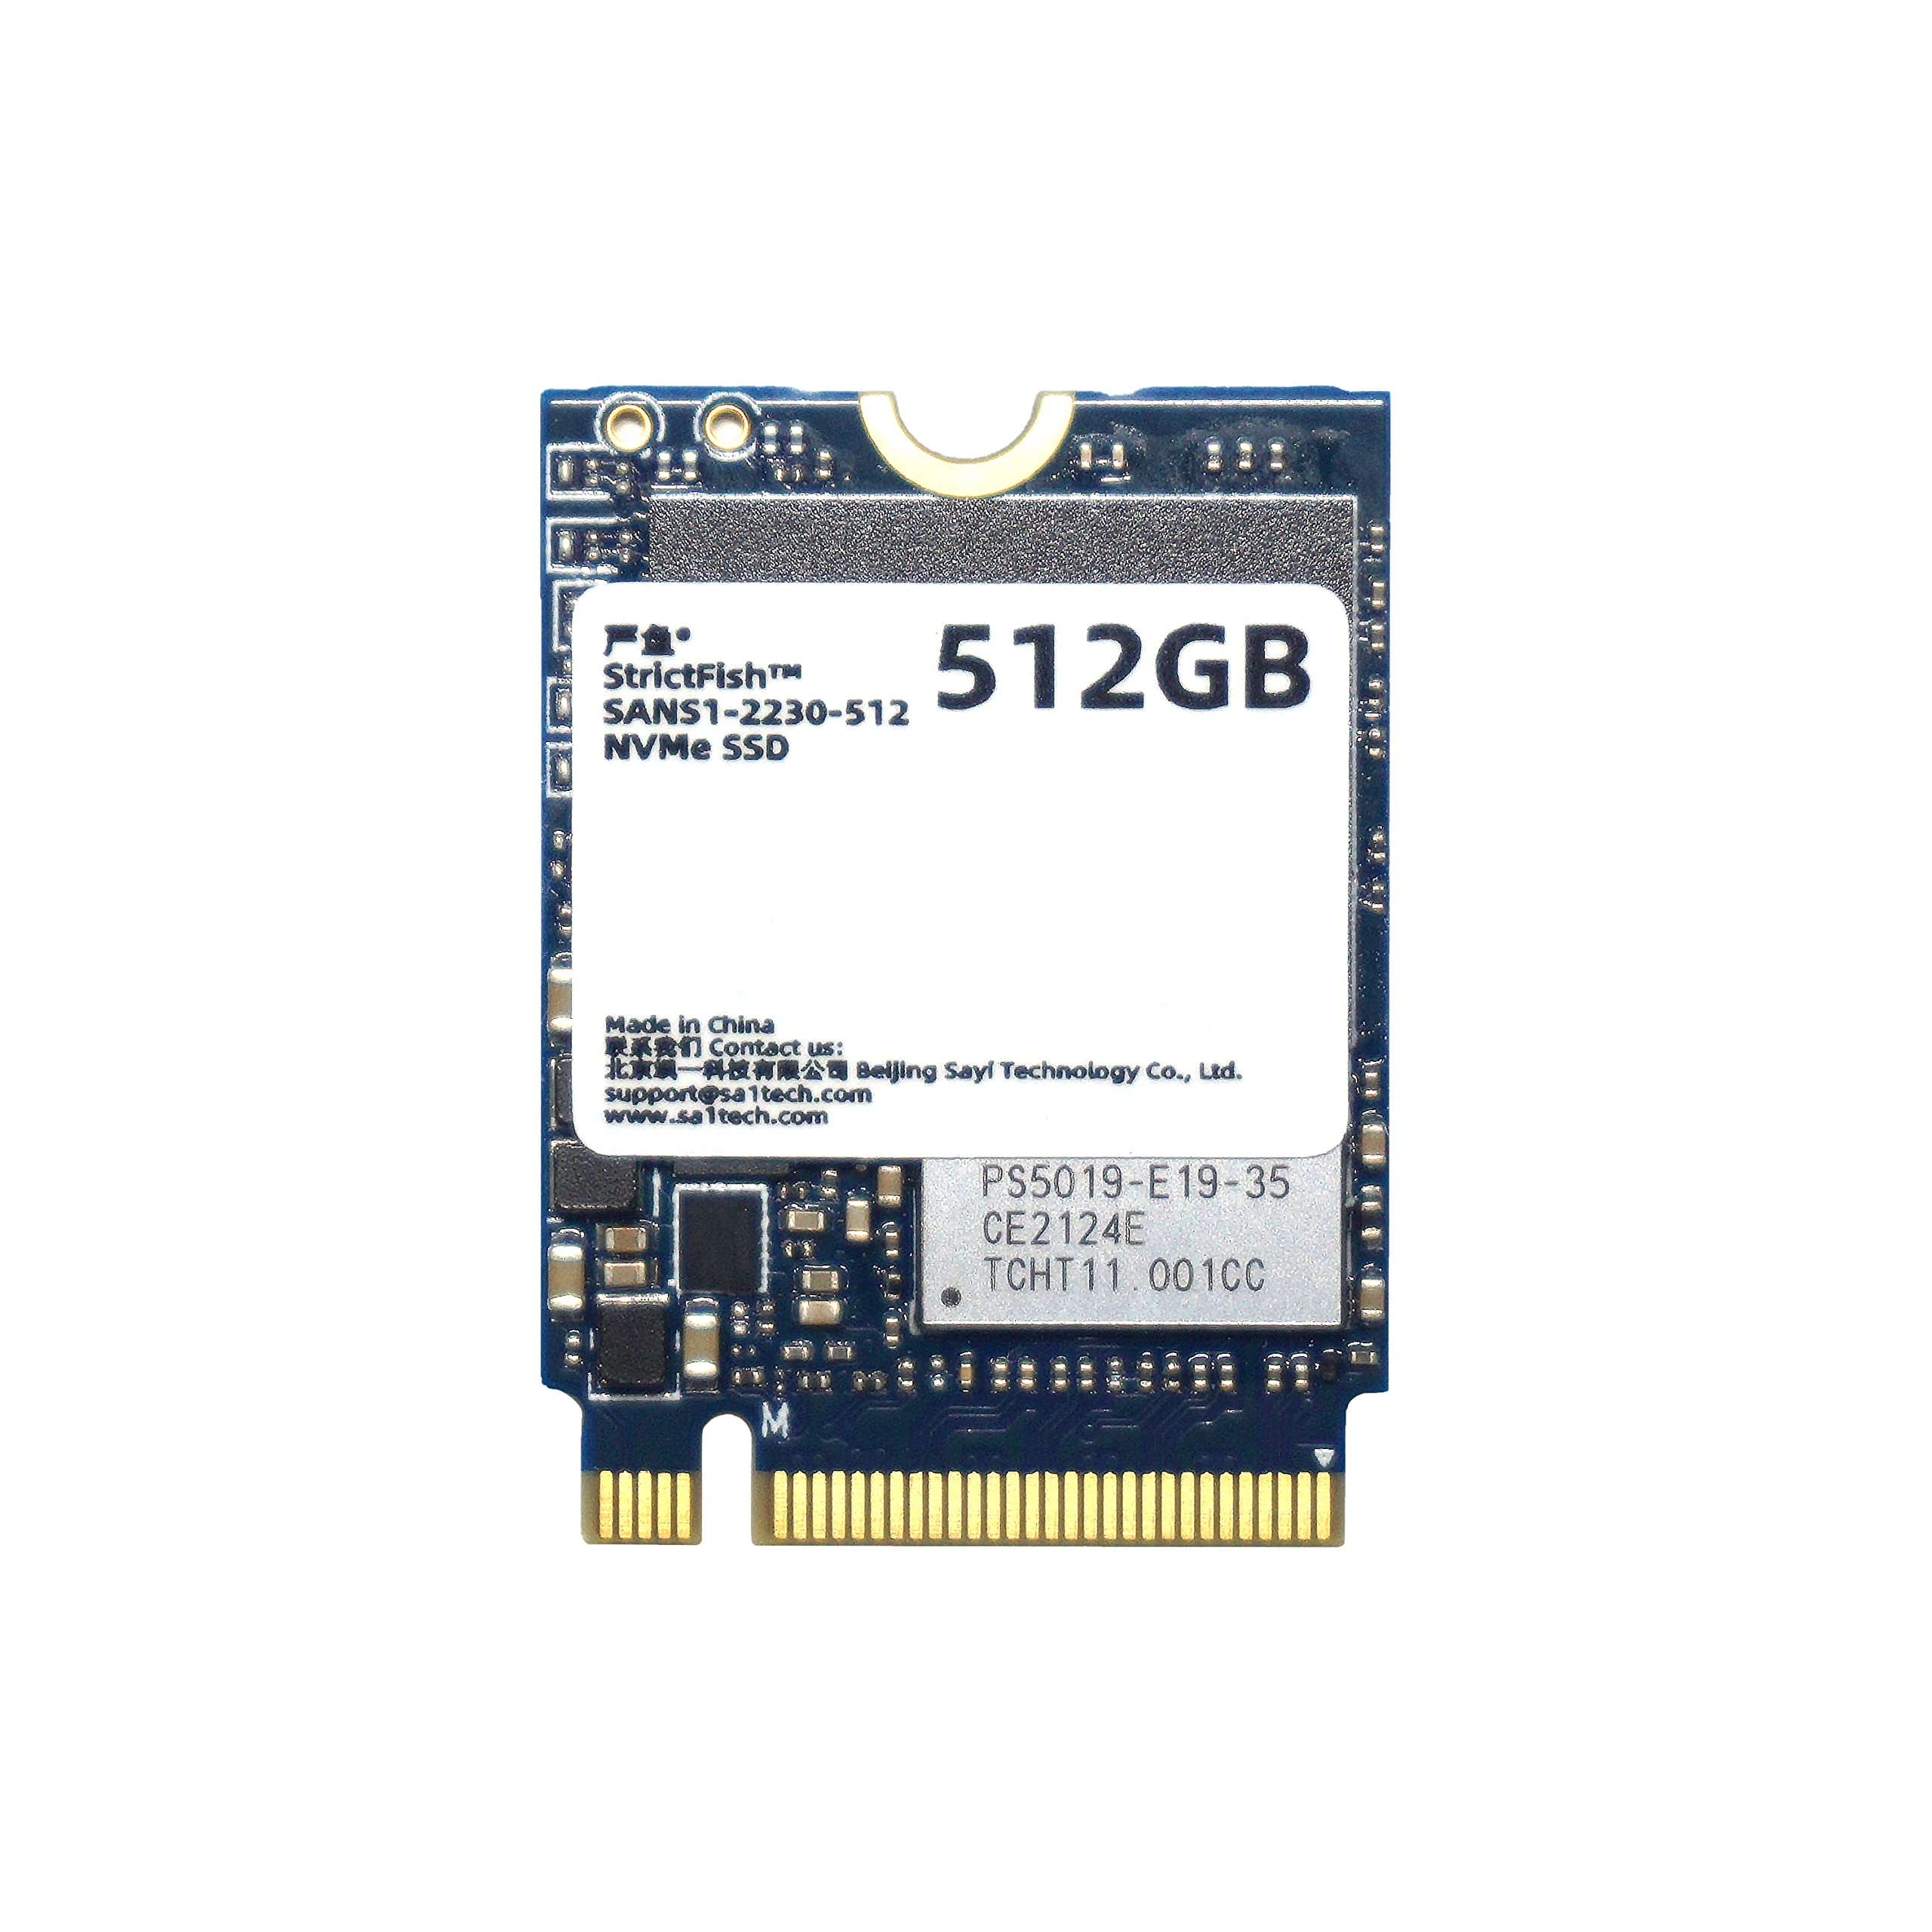ssd2230: (513, 368, 1408, 1569)
